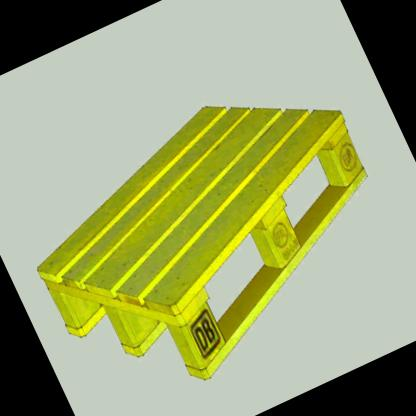BoxFace: (35, 101, 369, 381)
